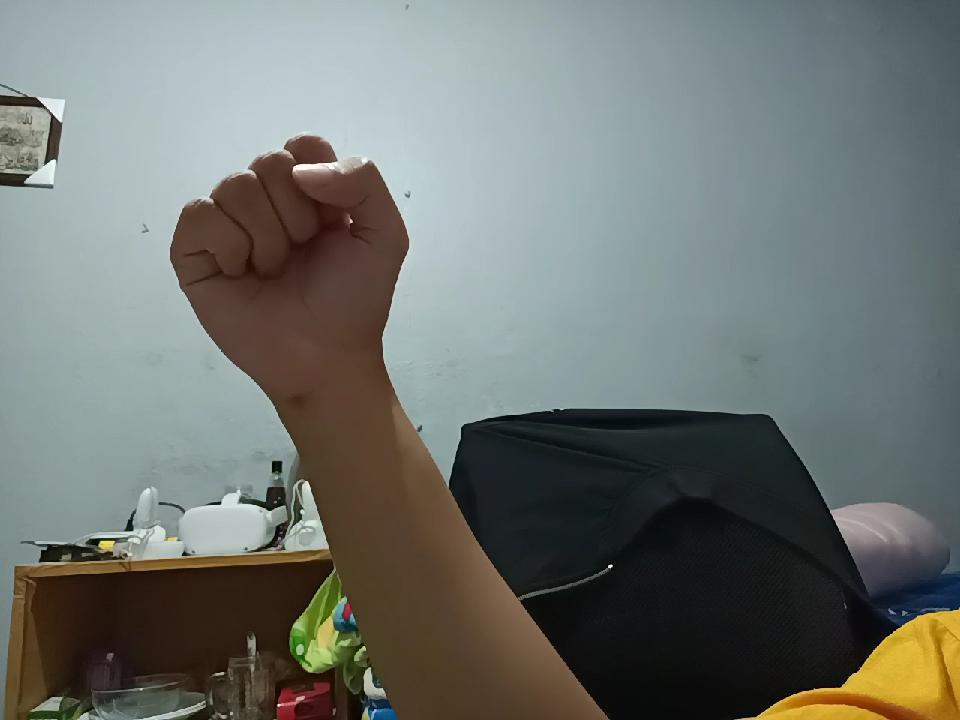rock: (167, 143, 390, 427)
